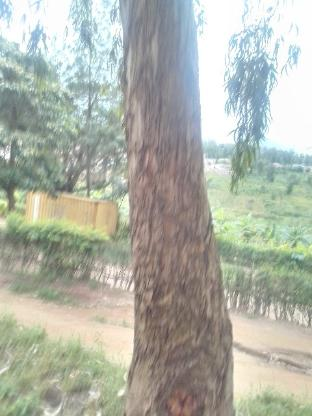tree: (109, 0, 240, 416)
